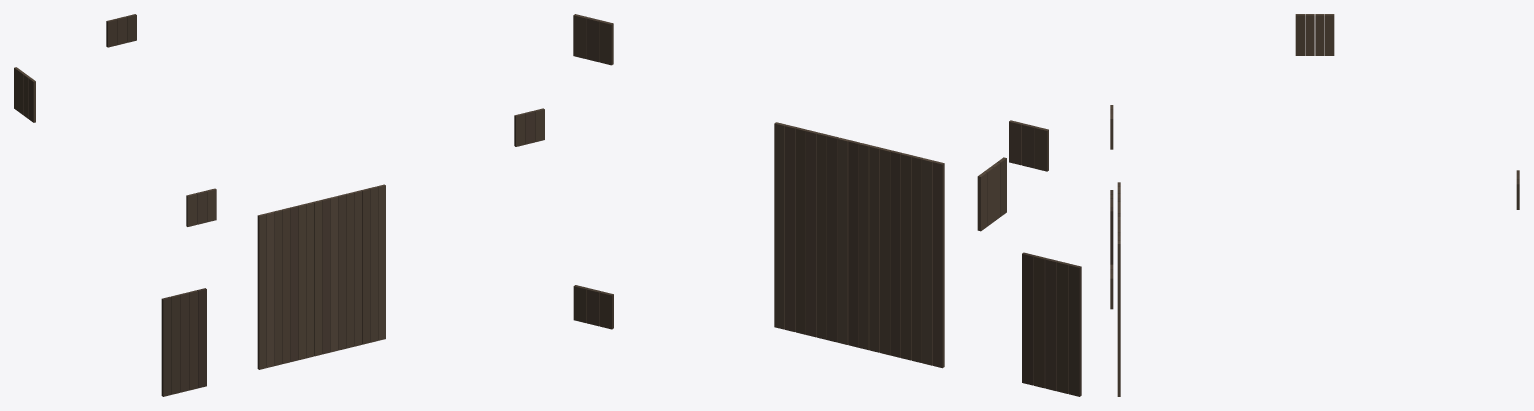
File: SM_Bld_070_Wood.glb
The picture shows the model from 3 angles, left to right: view 1: azimuth 30°, elevation 25°; view 2: azimuth 150°, elevation 25°; view 3: azimuth 270°, elevation 25°; orthographic projection. The views are drawn at different scales.
Parts seen in each view (by area): view 1: SM_Bld_070_Wood; view 2: SM_Bld_070_Wood; view 3: SM_Bld_070_Wood.
Boxes of the visible parts, bbox=[...] form: SM_Bld_070_Wood: bbox=[14, 14, 544, 396]; SM_Bld_070_Wood: bbox=[573, 14, 1081, 396]; SM_Bld_070_Wood: bbox=[1110, 14, 1519, 396].
Bounding box in the file's own units: 8.55 × 5 × 7.27.
